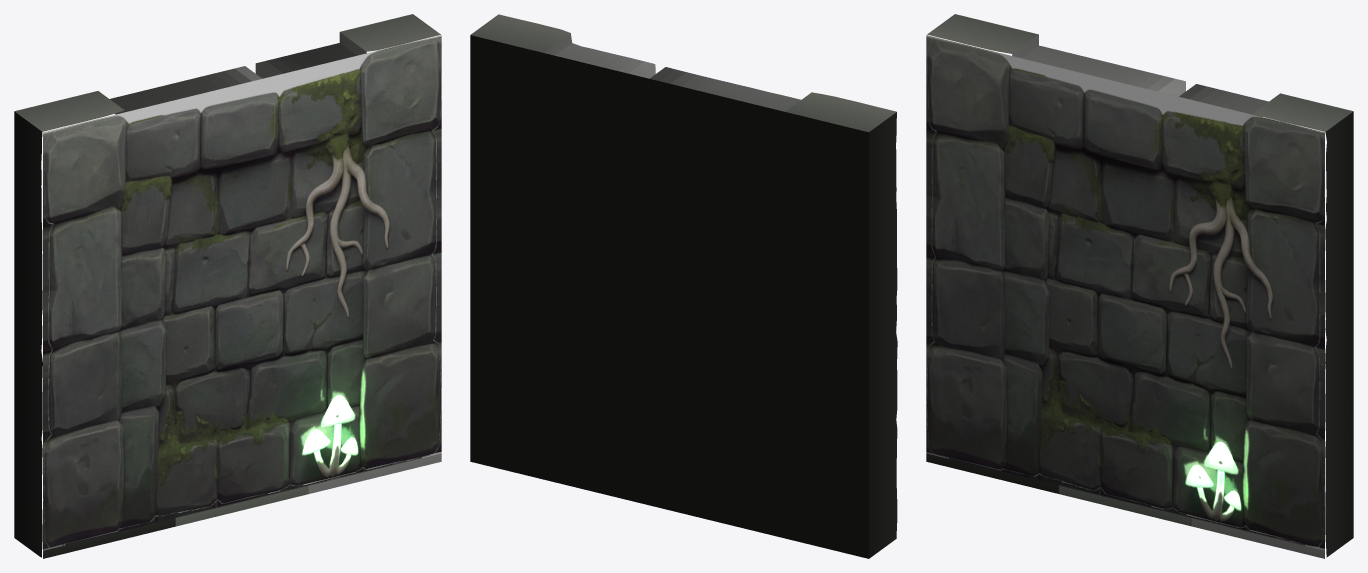
File: wall_shrooms.glb
The picture shows the model from 3 angles, left to right: view 1: azimuth 30°, elevation 25°; view 2: azimuth 150°, elevation 25°; view 3: azimuth 330°, elevation 25°; orthographic projection.
Visible parts, largest first — view 1: wall_shrooms; view 2: wall_shrooms; view 3: wall_shrooms.
Part boxes in pixels (x1=…): wall_shrooms: x1=14, y1=14, x2=441, y2=558; wall_shrooms: x1=470, y1=14, x2=897, y2=558; wall_shrooms: x1=926, y1=14, x2=1353, y2=558.
Bounding box in the file's own units: 2 × 2.05 × 0.25.
Materials: 1 (1 with a texture image).
